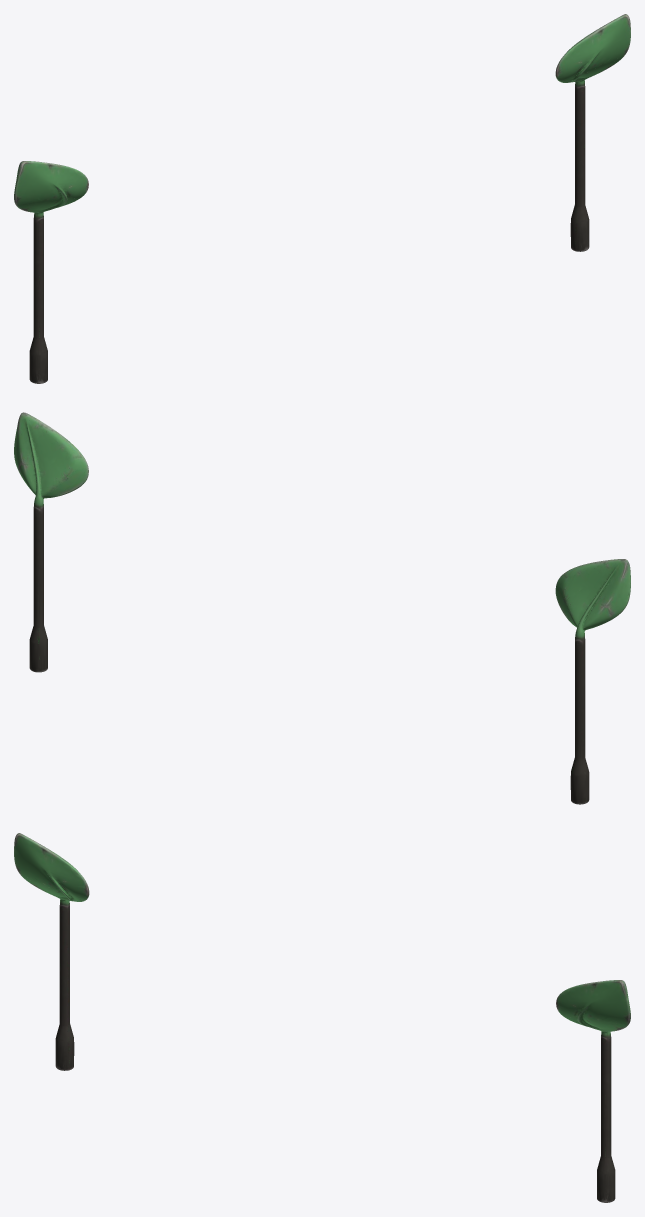
File: piece_antenna_leaf.glb
3 views of the same model, one above another, from view 1: azimuth 30°, elevation 25°; view 2: azimuth 150°, elevation 25°; view 3: azimuth 330°, elevation 25° (orthographic).
Visible parts, largest first — view 1: trait_antenna_leaf_right, trait_antenna_leaf_left; view 2: trait_antenna_leaf_left, trait_antenna_leaf_right; view 3: trait_antenna_leaf_left, trait_antenna_leaf_right.
Part boxes in pixels (bbox=[...]): trait_antenna_leaf_right: bbox=[14, 161, 88, 383]; trait_antenna_leaf_left: bbox=[555, 14, 630, 251]; trait_antenna_leaf_left: bbox=[14, 412, 88, 672]; trait_antenna_leaf_right: bbox=[555, 559, 630, 804]; trait_antenna_leaf_left: bbox=[556, 980, 630, 1202]; trait_antenna_leaf_right: bbox=[14, 833, 89, 1070].
Bounding box in the file's own units: 0.6728 × 0.2485 × 0.042.
Materials: 2 (2 with a texture image).
